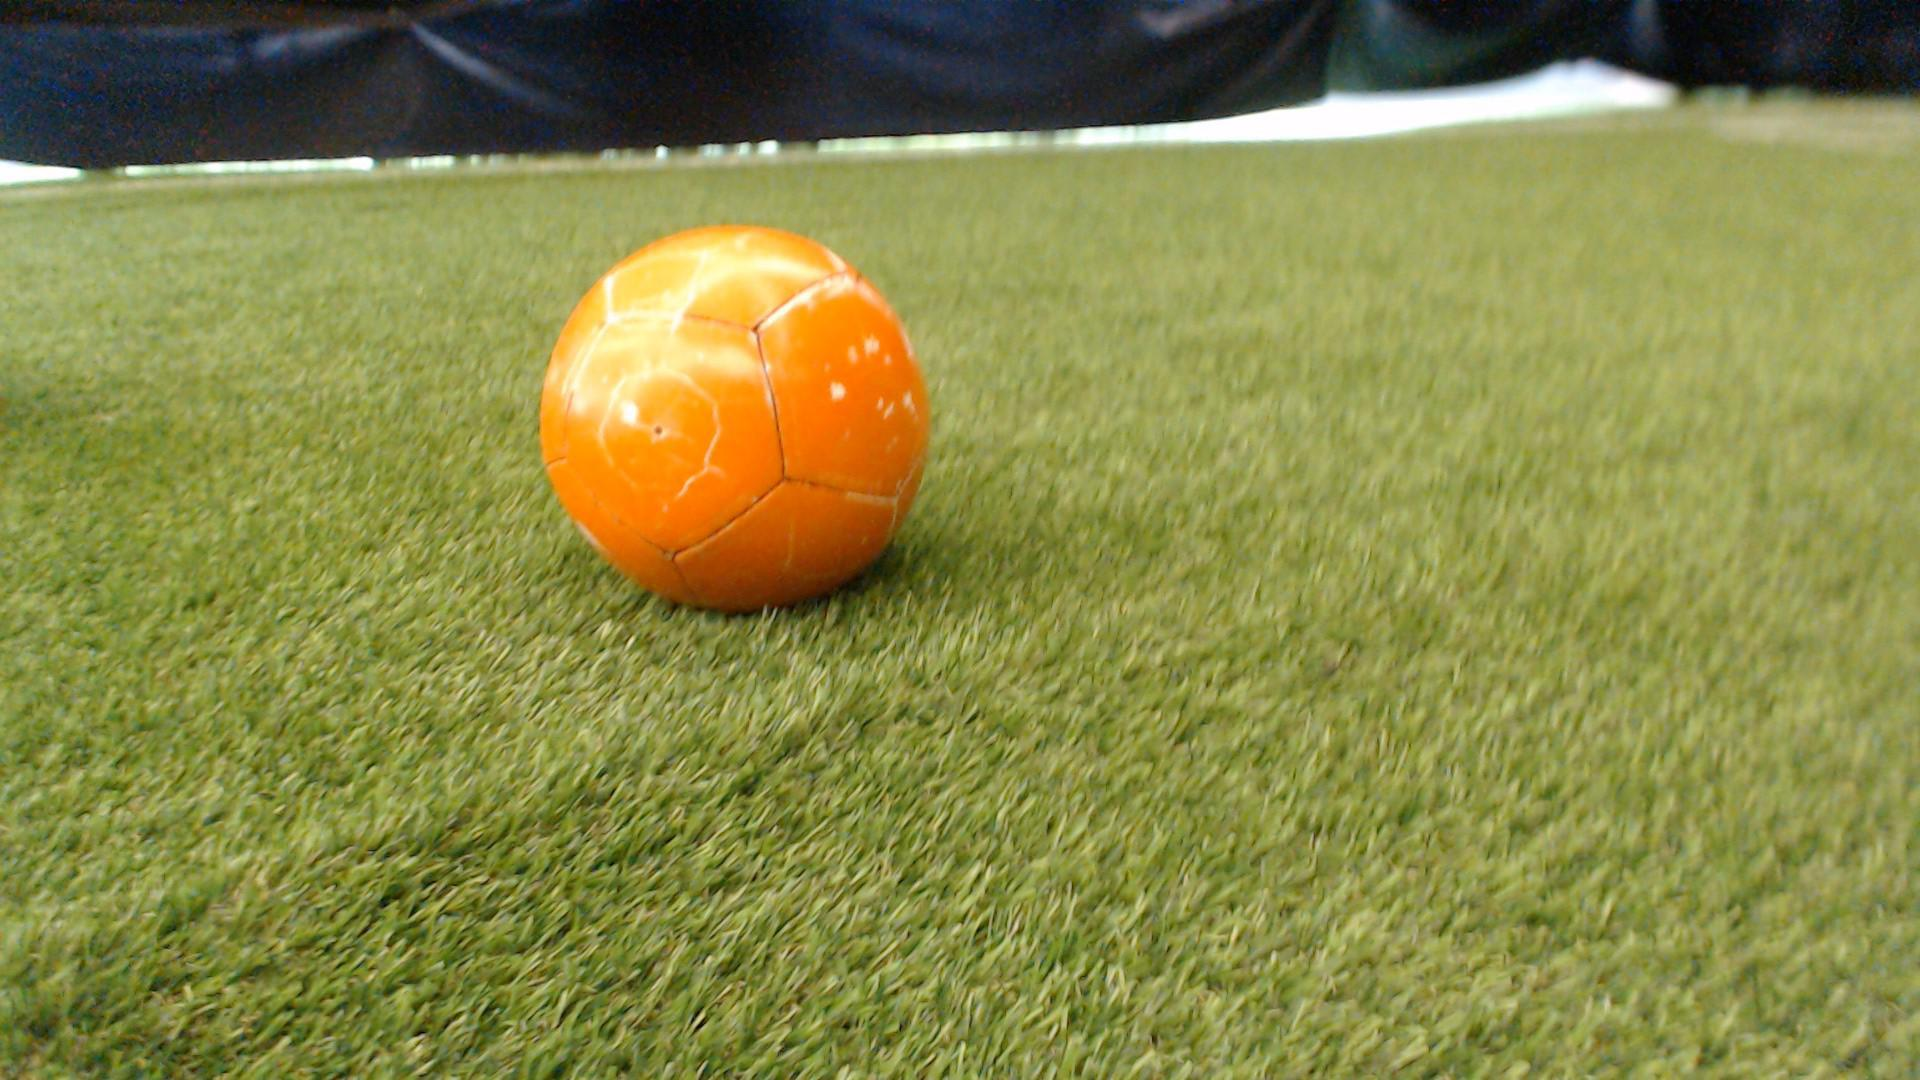bola: (504, 207, 988, 635)
